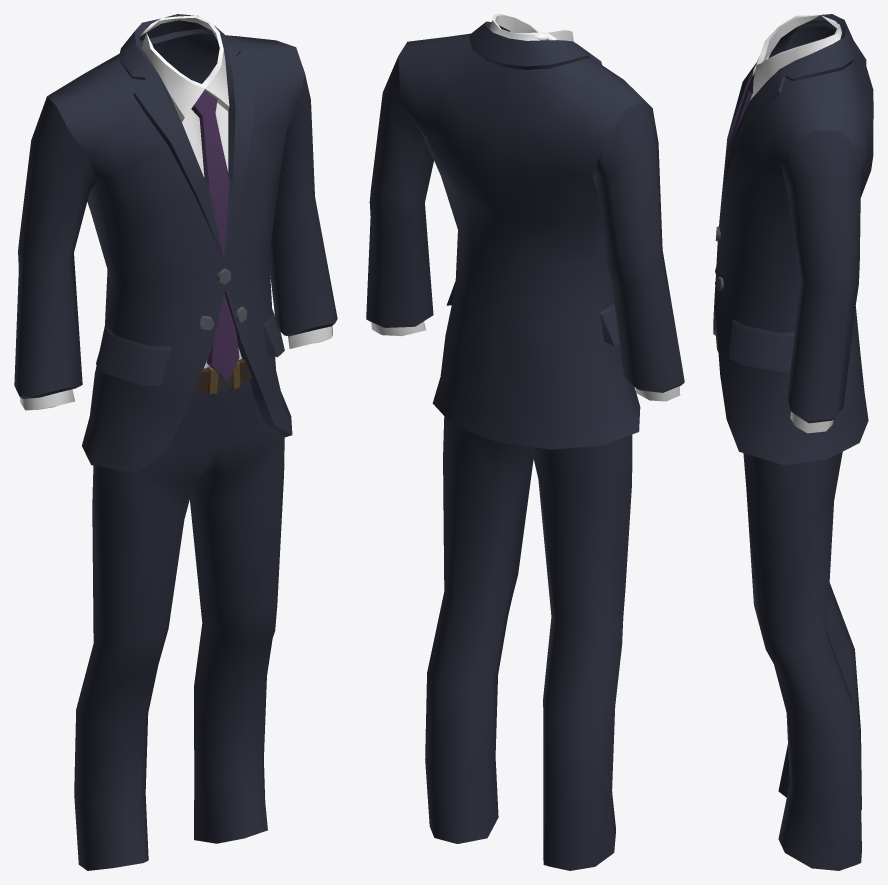
The model's file is suit 1.fbx.
The picture shows the model from 3 angles, left to right: view 1: azimuth 30°, elevation 25°; view 2: azimuth 150°, elevation 25°; view 3: azimuth 270°, elevation 25°; orthographic projection. The views are drawn at different scales.
Parts seen in each view (by area): view 1: man_in_suit; view 2: man_in_suit; view 3: man_in_suit.
Part boxes in pixels (left/top/right/bottom): man_in_suit: left=14, top=14, right=337, bottom=870; man_in_suit: left=366, top=14, right=684, bottom=870; man_in_suit: left=713, top=14, right=873, bottom=870.
Bounding box in the file's own units: 5945 × 14788 × 2660.
